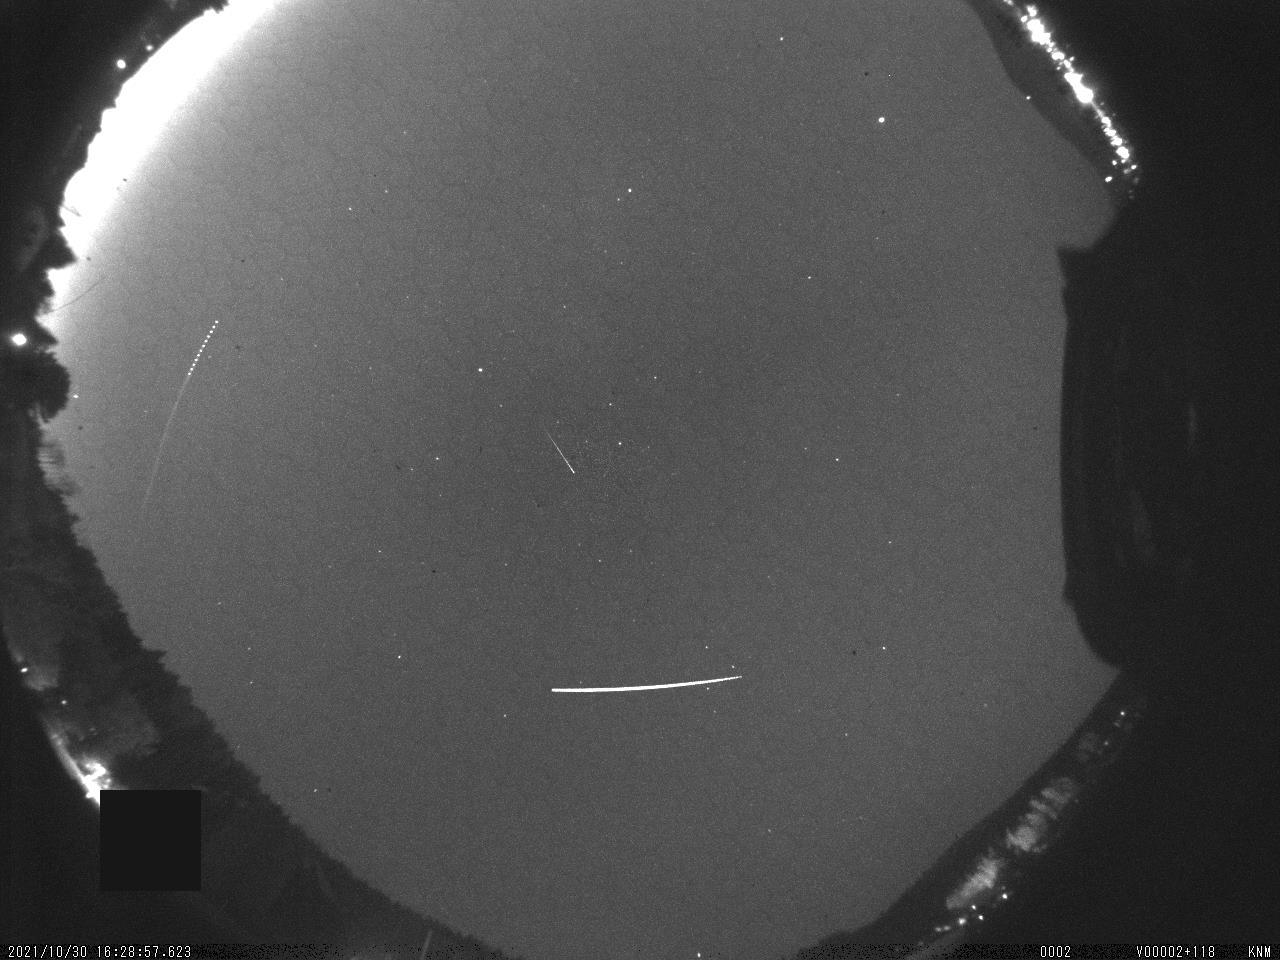meteor: (524, 408, 590, 499)
